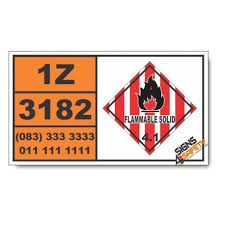FlammableSolid: (106, 65, 194, 151)
